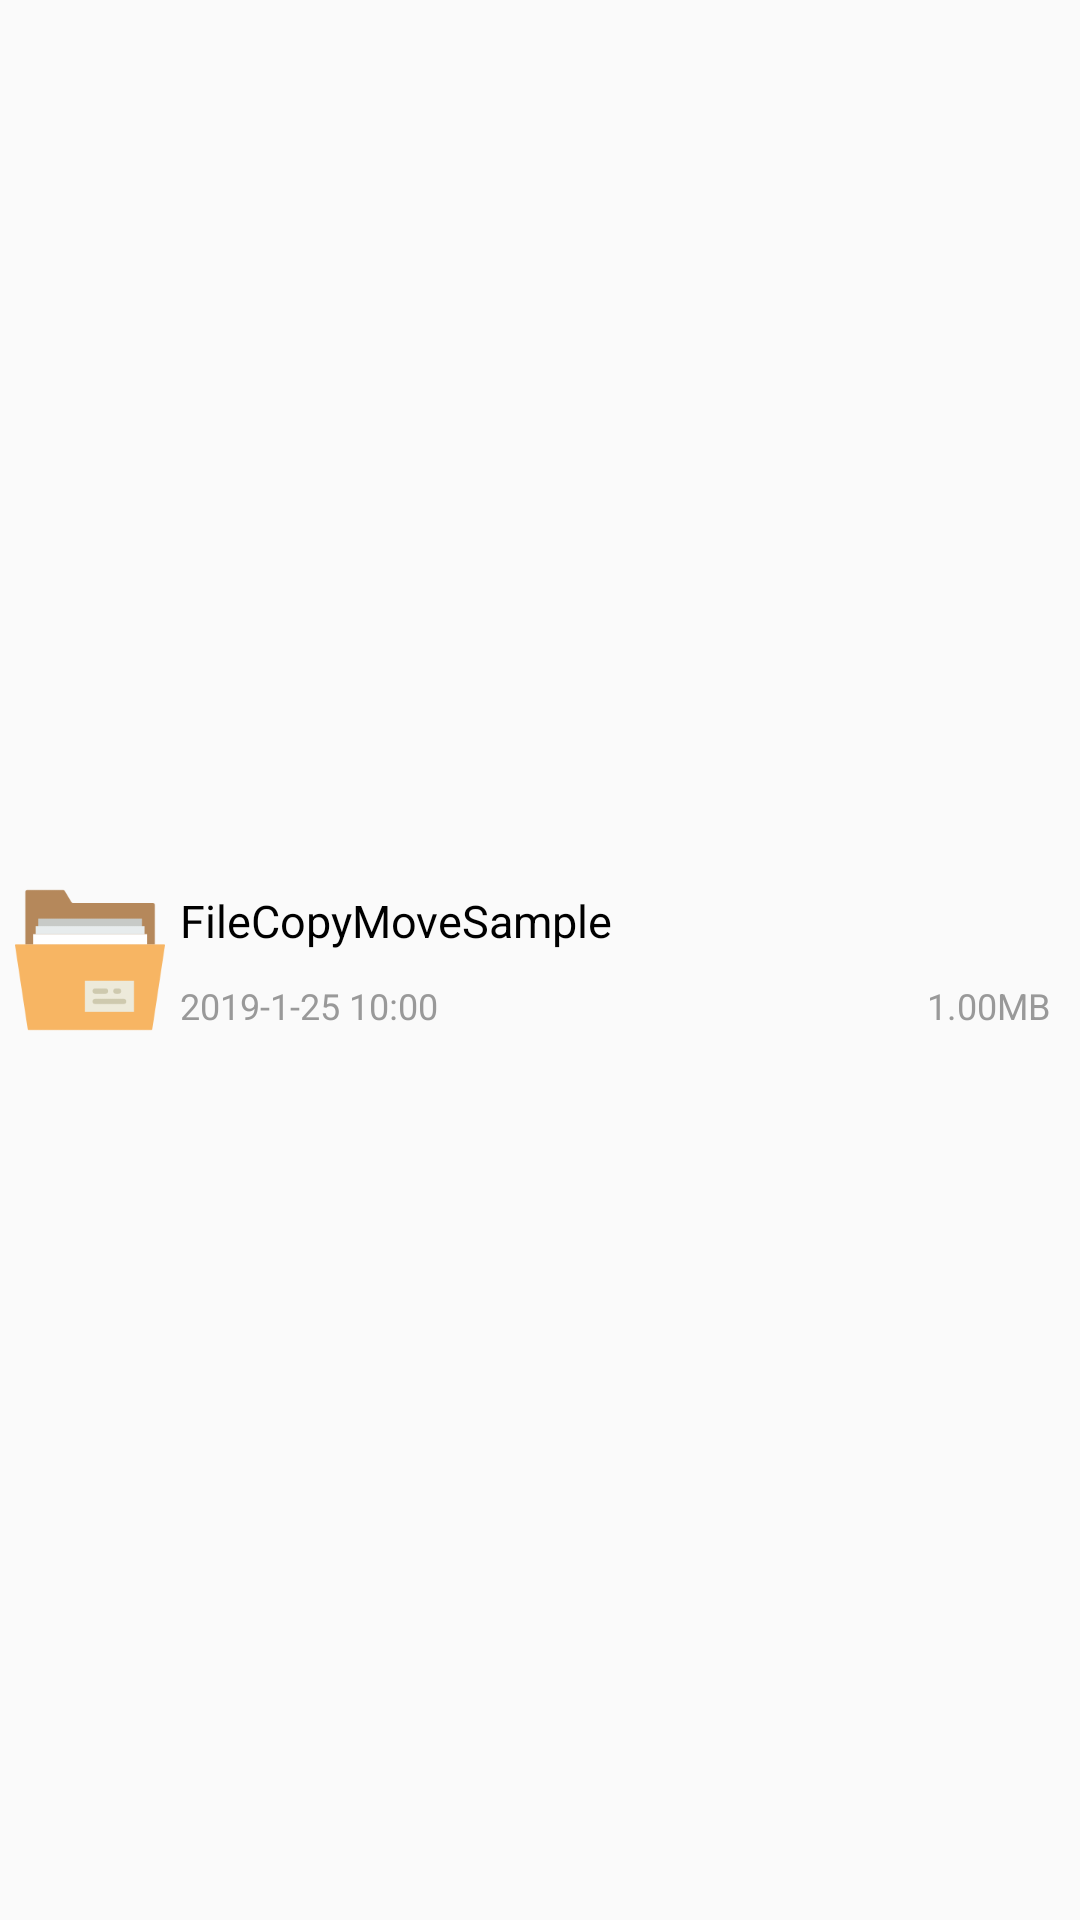

Screen size 1080 × 1920. Icon name, then its box in pixels as (x1, y1, x2, y2):
folder: (15, 890, 165, 1030)
